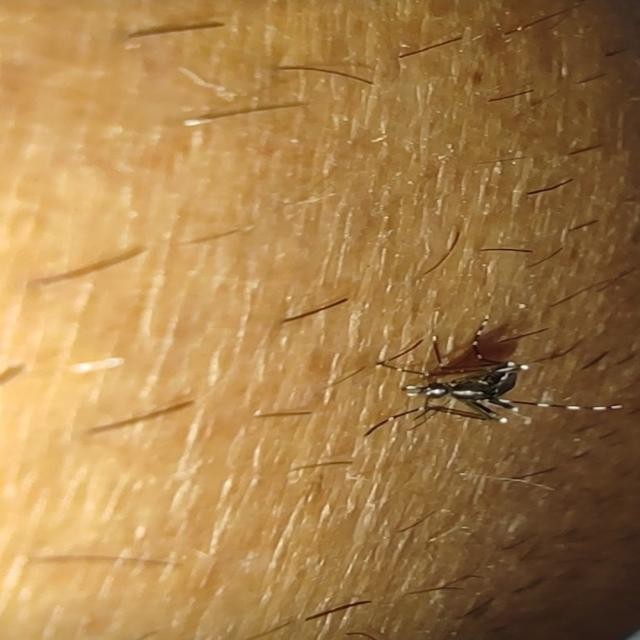albopictus: (314, 309, 634, 447)
